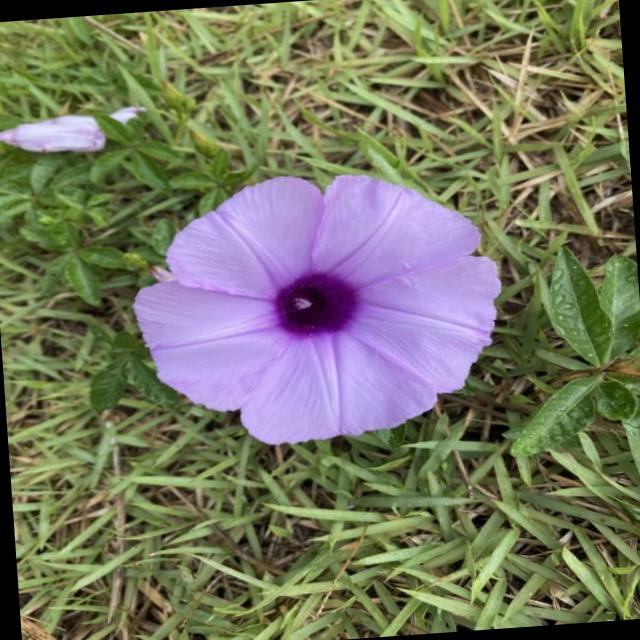ipomoea: (119, 158, 514, 457), (0, 100, 150, 162)
